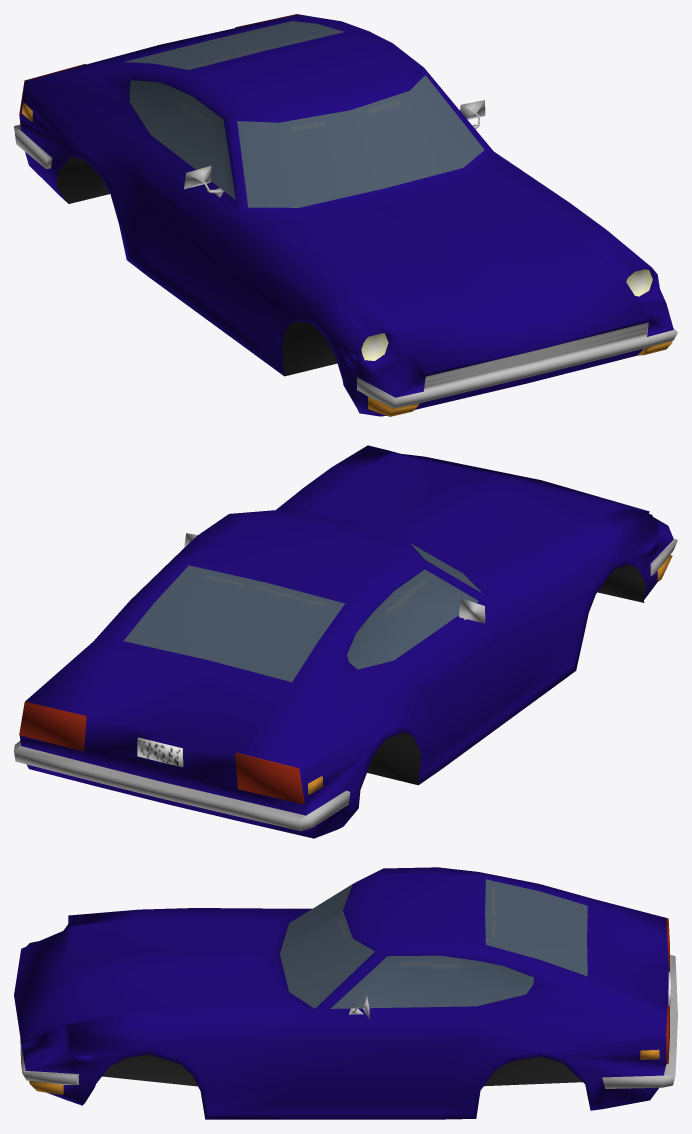
File: datsun 240z.fbx
3 views of the same model, one above another, from view 1: azimuth 30°, elevation 25°; view 2: azimuth 150°, elevation 25°; view 3: azimuth 270°, elevation 25° (orthographic). The views are drawn at different scales.
Parts seen in each view (by area): view 1: datsun 240z; view 2: datsun 240z; view 3: datsun 240z.
Part boxes in pixels (<box>): datsun 240z: <box>14,14,677,416</box>; datsun 240z: <box>14,445,677,838</box>; datsun 240z: <box>14,867,677,1119</box>.
Size of the model in its own units: 2.91 by 1.64 by 6.42.
